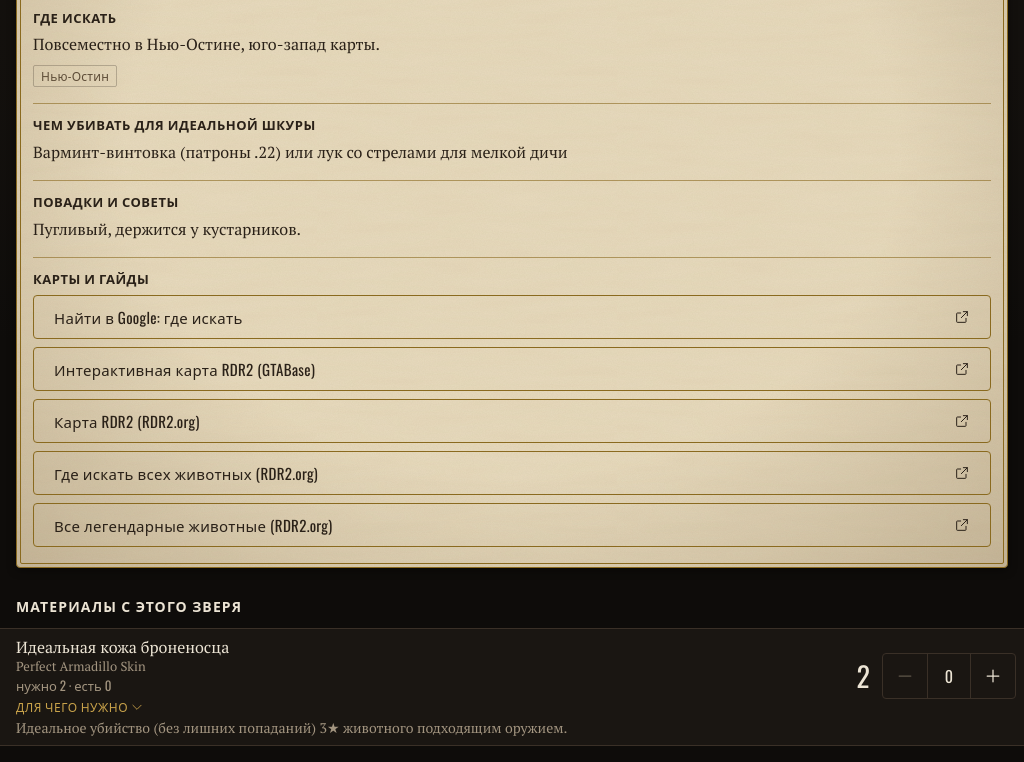
Scenario: Animal card (9.8) › lists materials and expands «Для чего нужно» with item links
The width and height of the screenshot is (1024, 762).
(page scrolled)
expect the heading "Чем убивать для идеальной шкуры" is shown: met, box [33,114,316,134]
Click the button "Для чего нужно".
click(123, 647)  # box [16,637,829,716]
(page scrolled)
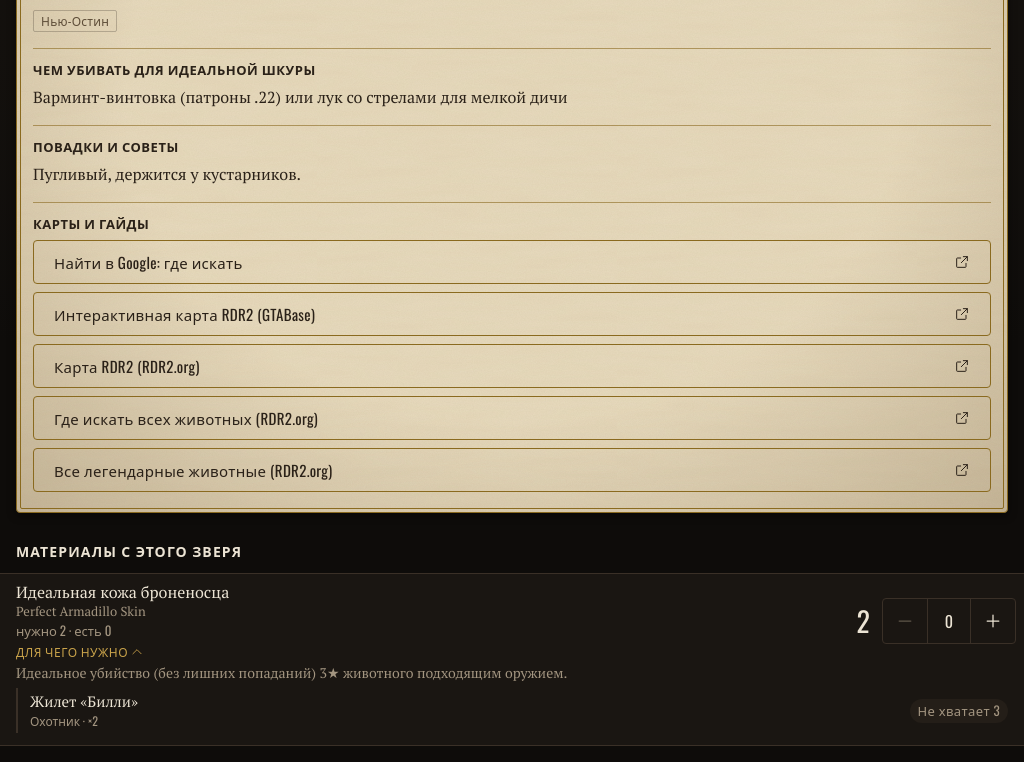
expect the link to "#/item/billy_vest" is shown: met, box [18,688,1016,733]
